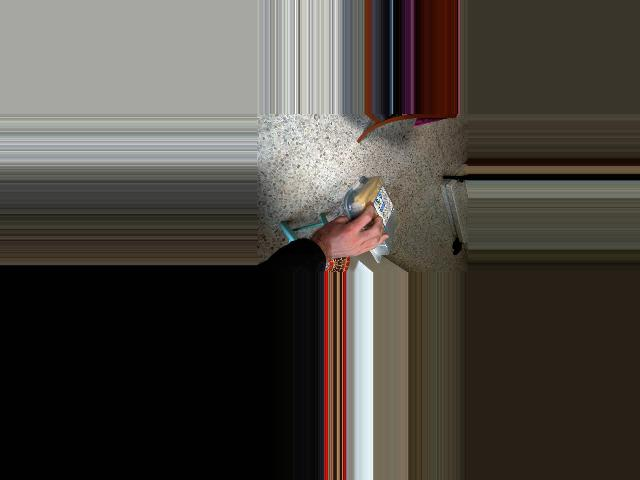cheese: (352, 176, 395, 262)
